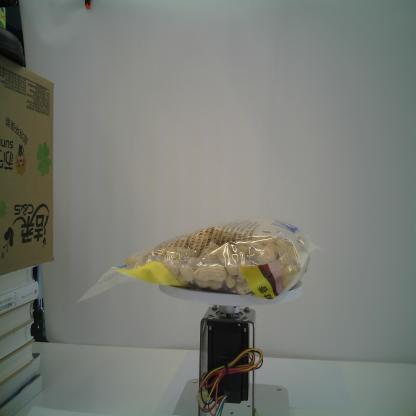Dried Food: (76, 216, 324, 304)
